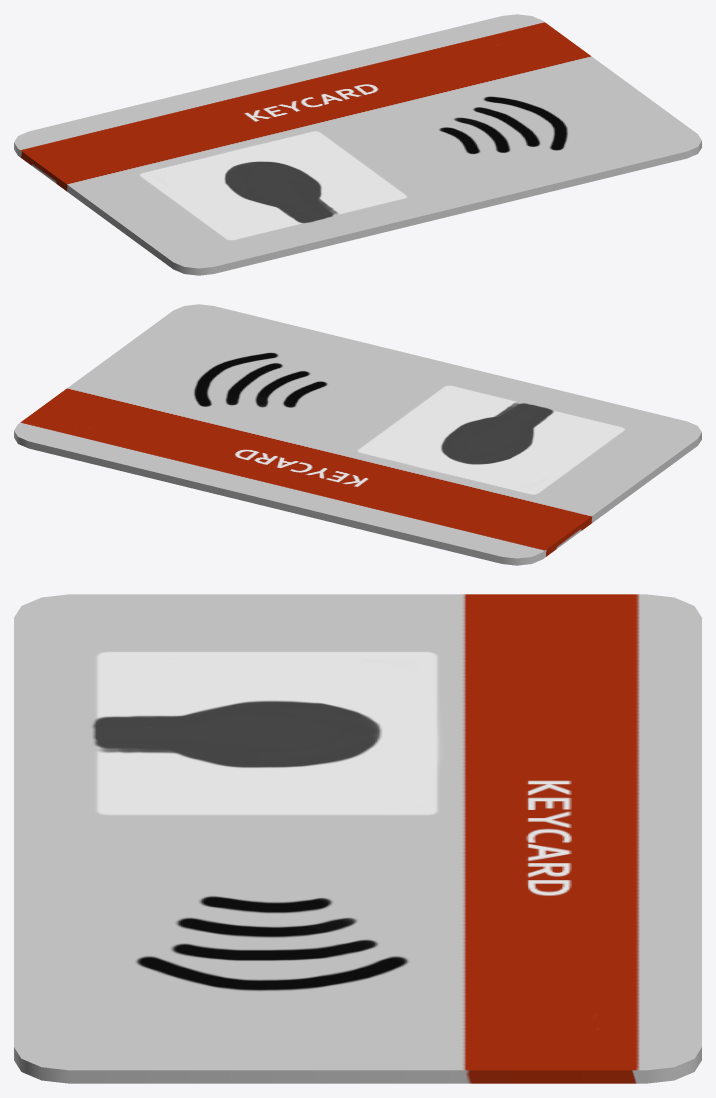
File: keycard.fbx
3 renders of one model, top to bottom at view 1: azimuth 30°, elevation 25°; view 2: azimuth 150°, elevation 25°; view 3: azimuth 270°, elevation 25°, orthographic. The views are drawn at different scales.
Visible parts, largest first — view 1: keycard; view 2: keycard; view 3: keycard.
Part boxes in pixels (x1,y1,x2,y2): keycard: (14, 14, 701, 275); keycard: (14, 304, 701, 565); keycard: (14, 594, 701, 1083).
Size of the model in its own units: 120 by 1.56 by 72.99.
